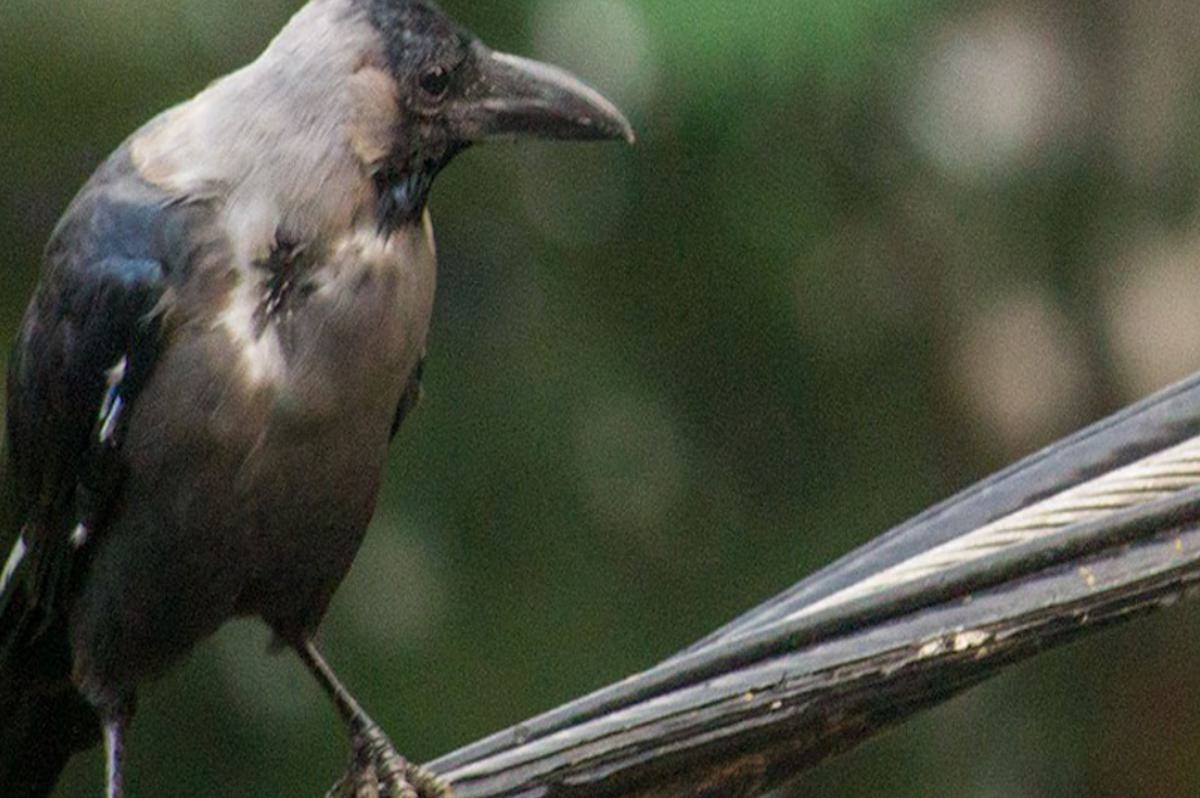crow: (1, 5, 640, 798)
